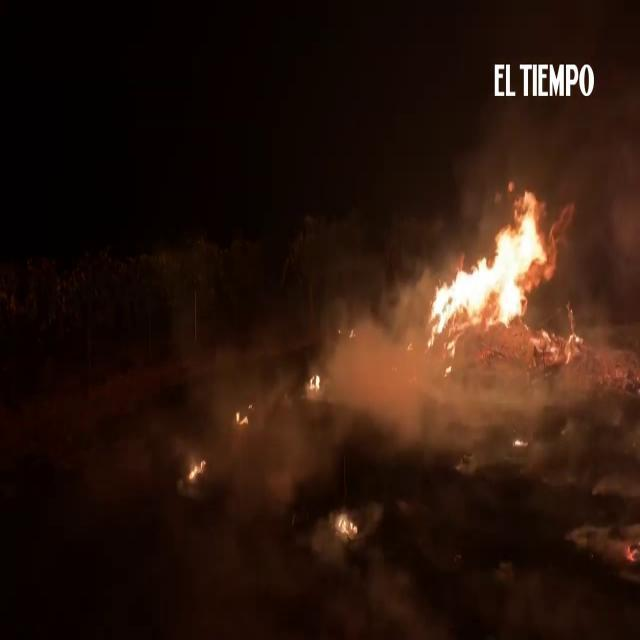Fire: (424, 190, 574, 342), (332, 512, 358, 539), (187, 458, 206, 476), (307, 366, 321, 389), (234, 410, 252, 424)
